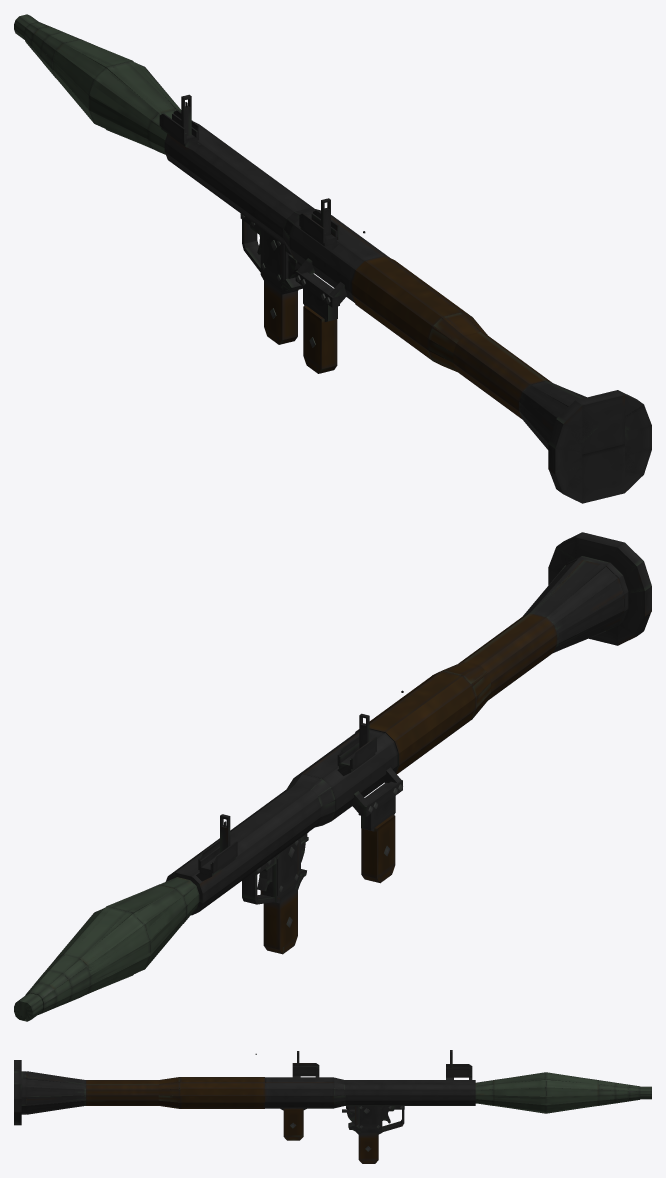
File: a9_rpg7.geo.fbx
3 views of the same model, one above another, from view 1: azimuth 30°, elevation 25°; view 2: azimuth 150°, elevation 25°; view 3: azimuth 270°, elevation 25° (orthographic). The views are drawn at different scales.
Parts seen in each view (by area): view 1: sizebase6, gun, sizebase, sizebase4, sizebase3, bone5, sizebase2, bone6, bone, frontsight, rearsight; view 2: sizebase4, gun, sizebase, sizebase3, bone6, sizebase6, sizebase2, bone5, frontsight, rearsight, bone7, bone (+1 smaller); view 3: sizebase4, sizebase, sizebase3, gun, sizebase2, bone5, bone6, bone, sizebase6, frontsight, rearsight, bone7 (+2 smaller).
Part boxes in pixels (x1=…): sizebase6: x1=548, y1=390, x2=651, y2=503; gun: x1=240, y1=213, x2=347, y2=373; sizebase: x1=164, y1=122, x2=313, y2=246; sizebase4: x1=453, y1=332, x2=586, y2=449; sizebase3: x1=351, y1=256, x2=469, y2=360; bone5: x1=89, y1=61, x2=181, y2=154; sizebase2: x1=283, y1=208, x2=389, y2=302; bone6: x1=53, y1=39, x2=144, y2=122; bone: x1=428, y1=312, x2=487, y2=371; frontsight: x1=159, y1=94, x2=201, y2=151; rearsight: x1=299, y1=198, x2=338, y2=250; sizebase4: x1=458, y1=559, x2=624, y2=700; gun: x1=242, y1=767, x2=402, y2=954; sizebase: x1=165, y1=786, x2=320, y2=915; sizebase3: x1=355, y1=671, x2=475, y2=773; bone6: x1=56, y1=906, x2=150, y2=994; sizebase6: x1=548, y1=532, x2=651, y2=645; sizebase2: x1=287, y1=729, x2=398, y2=827; bone5: x1=95, y1=877, x2=198, y2=974; frontsight: x1=196, y1=814, x2=237, y2=881; rearsight: x1=337, y1=713, x2=376, y2=775; bone7: x1=44, y1=954, x2=90, y2=1003; bone: x1=432, y1=662, x2=490, y2=719; sizebase4: x1=26, y1=1071, x2=158, y2=1114; sizebase: x1=345, y1=1080, x2=475, y2=1105; sizebase3: x1=180, y1=1077, x2=264, y2=1108; gun: x1=280, y1=1106, x2=404, y2=1163; sizebase2: x1=265, y1=1077, x2=345, y2=1108; bone5: x1=476, y1=1072, x2=546, y2=1113; bone6: x1=545, y1=1072, x2=598, y2=1113; bone: x1=158, y1=1077, x2=180, y2=1108; sizebase6: x1=14, y1=1060, x2=21, y2=1125; frontsight: x1=446, y1=1050, x2=472, y2=1079; rearsight: x1=292, y1=1051, x2=319, y2=1077; bone7: x1=598, y1=1080, x2=615, y2=1105.
Bounding box in the file's own units: 83.06 × 158 × 864.
1 material, 1 textured.
